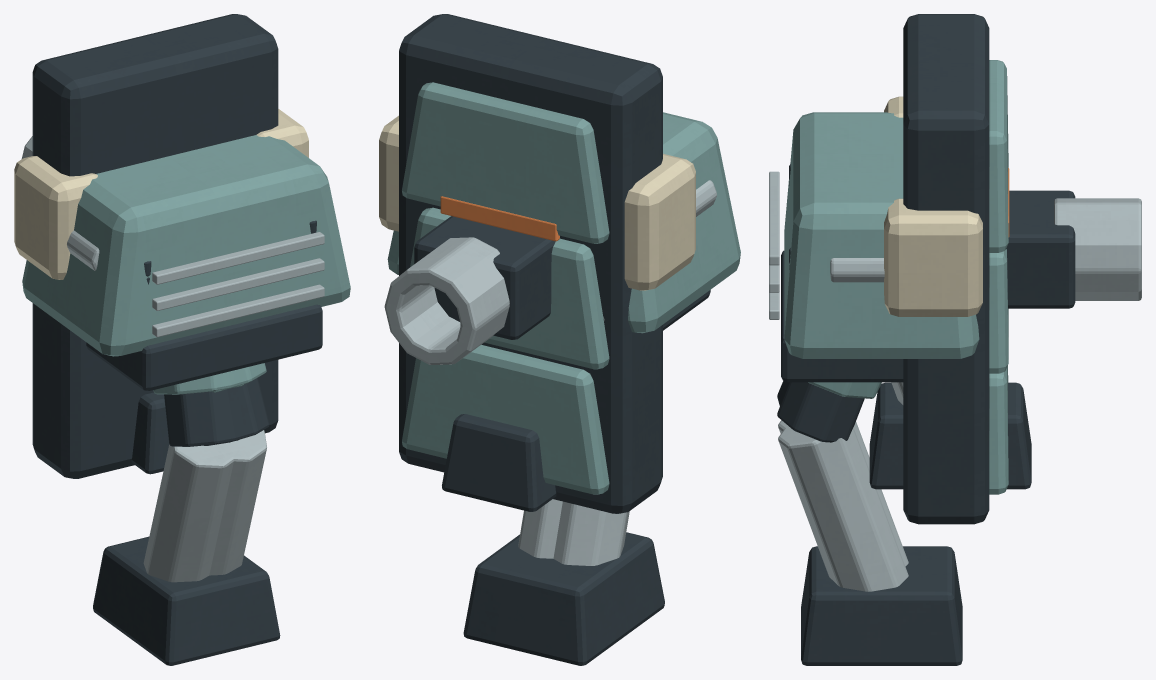
The model's file is caisson_guard.glb.
The picture shows the model from 3 angles, left to right: view 1: azimuth 30°, elevation 25°; view 2: azimuth 150°, elevation 25°; view 3: azimuth 270°, elevation 25°; orthographic projection. The views are drawn at different scales.
Parts seen in each view (by area): view 1: L0_Chassis, L0_Shield, L2_Hip0, L2_Hip1, L0_Hip0, L0_Shin0, L0_Hip1, L0_Turret; view 2: L0_Shield, L0_Chassis, L0_Weapon, L2_Hip0, L2_Hip1, L0_Shin0, L0_Optics; view 3: L0_Chassis, L0_Shield, L2_Hip1, L0_Weapon, L0_Shin0, L0_Hip1, L2_Hip0, L0_Turret.
Boxes of the visible parts, box(x1,y1,x2,y2) form: L0_Chassis: box(14, 109, 350, 390); L0_Shield: box(32, 14, 278, 478); L2_Hip0: box(93, 440, 251, 665); L2_Hip1: box(193, 430, 280, 655); L0_Hip0: box(153, 372, 243, 446); L0_Shin0: box(131, 392, 169, 474); L0_Hip1: box(204, 363, 269, 445); L0_Turret: box(67, 230, 99, 270); L0_Shield: box(399, 14, 662, 513); L0_Chassis: box(379, 112, 740, 333); L0_Weapon: box(384, 216, 555, 364); L2_Hip0: box(494, 501, 664, 665); L2_Hip1: box(463, 499, 570, 658); L0_Shin0: box(442, 414, 556, 511); L0_Optics: box(440, 196, 559, 241); L0_Chassis: box(769, 96, 982, 382); L0_Shield: box(903, 14, 1008, 524); L2_Hip1: box(778, 427, 962, 665); L0_Weapon: box(1006, 190, 1141, 308); L0_Shin0: box(869, 382, 1031, 489); L0_Hip1: box(777, 382, 881, 442); L2_Hip0: box(778, 420, 962, 644); L0_Turret: box(830, 258, 884, 282).
Bounding box in the file's own units: 0.72 × 1.48 × 0.8675.
Materials: 1 (1 with a texture image).
